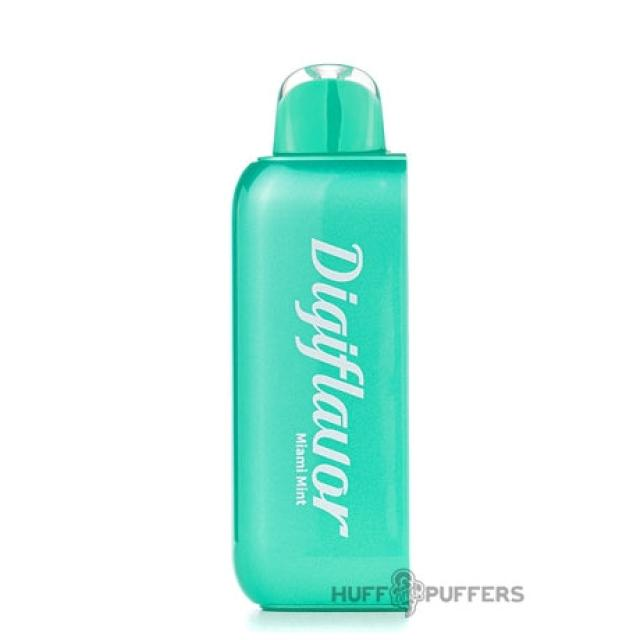Vapes: (229, 61, 412, 615)
